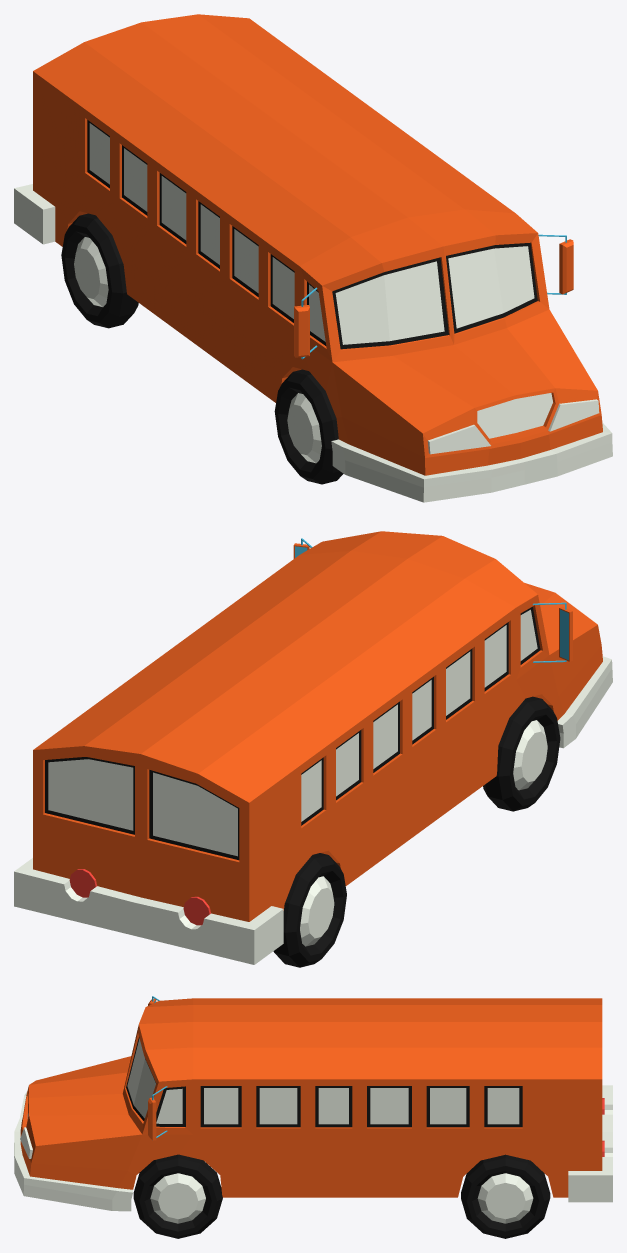
The model's file is Bus.fbx.
3 renders of one model, top to bottom at view 1: azimuth 30°, elevation 25°; view 2: azimuth 150°, elevation 25°; view 3: azimuth 270°, elevation 25°, orthographic. The views are drawn at different scales.
Parts seen in each view (by area): view 1: body.001, tire1.002, tire1.001; view 2: body.001, tire1.001, tire1.002; view 3: body.001, tire1.001, tire1.002.
Part boxes in pixels (x1=…): body.001: x1=14, y1=14, x2=612, y2=502; tire1.002: x1=61, y1=213, x2=138, y2=328; tire1.001: x1=274, y1=369, x2=343, y2=484; body.001: x1=14, y1=531, x2=612, y2=964; tire1.001: x1=483, y1=696, x2=560, y2=811; tire1.002: x1=273, y1=853, x2=346, y2=967; body.001: x1=14, y1=996, x2=612, y2=1211; tire1.001: x1=133, y1=1154, x2=222, y2=1238; tire1.002: x1=461, y1=1154, x2=550, y2=1238.
Size of the model in its own units: 351 by 276 by 853.
